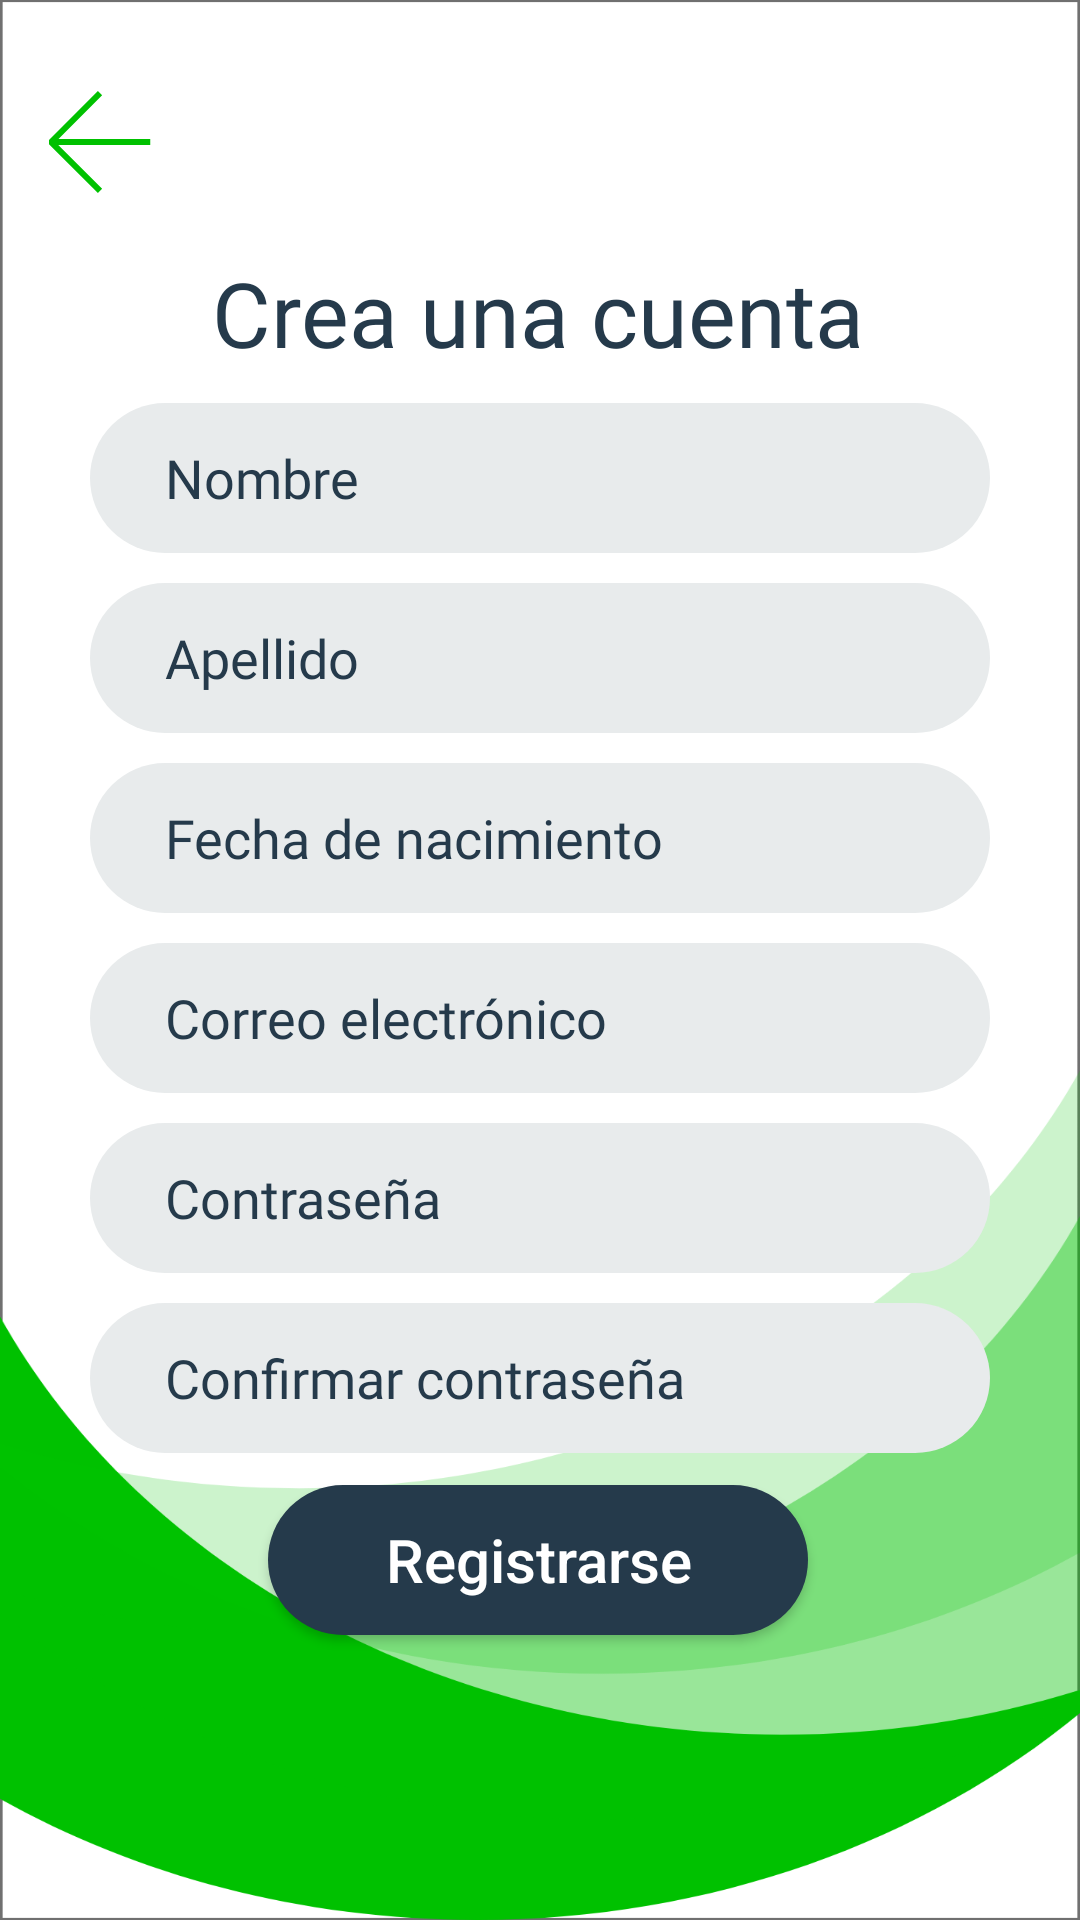

Icon click points for this 1080 x 1920 phone screenshot, format (x=x, y=y):
back: (x=100, y=142)
